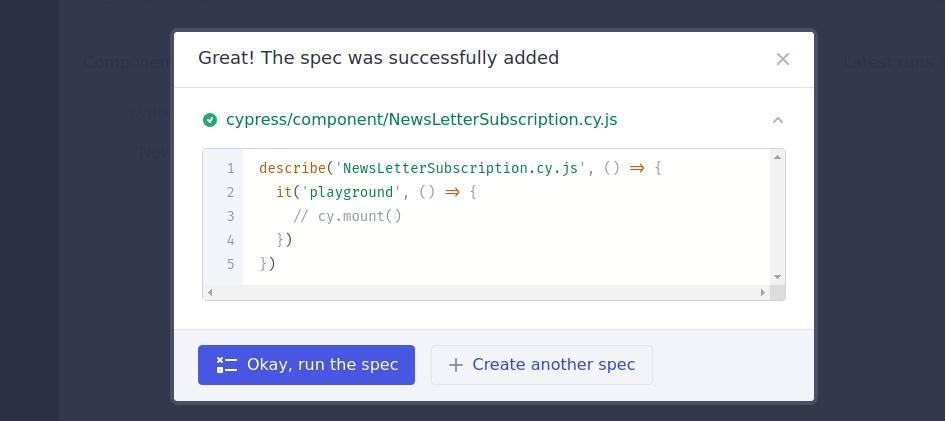button: (431, 346, 654, 386), (199, 345, 416, 386)
icon: (200, 110, 221, 131), (776, 52, 792, 69)
